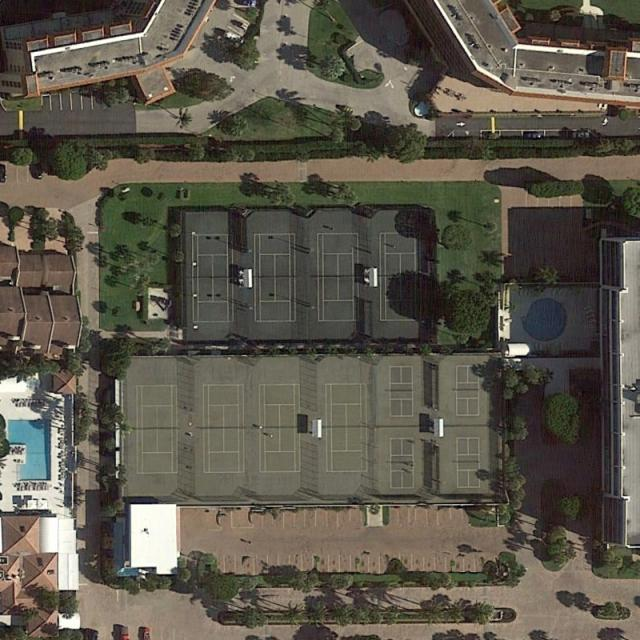vehicle: (571, 129, 595, 140), (34, 159, 44, 179), (120, 626, 130, 640), (482, 131, 502, 138), (143, 628, 151, 640), (526, 132, 541, 138), (1, 165, 6, 182)
